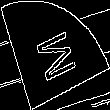M_W: (30, 24, 80, 86)
